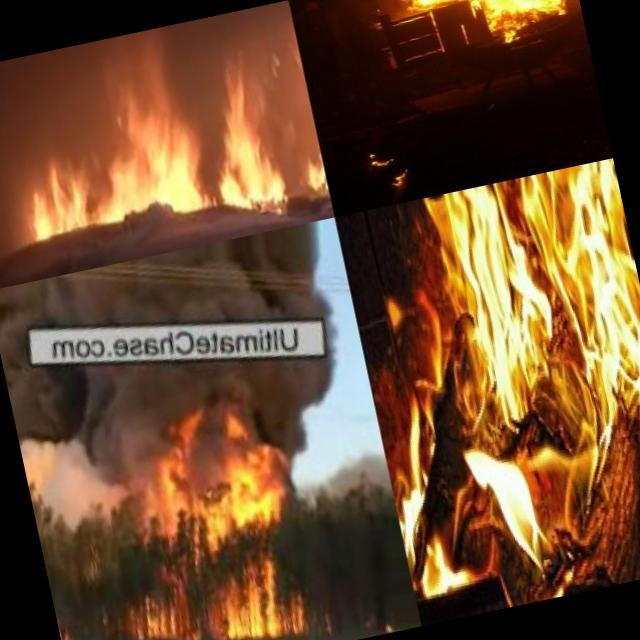fire: (334, 157, 640, 625), (0, 2, 330, 259), (359, 0, 584, 66), (206, 539, 338, 640), (168, 443, 284, 550), (131, 583, 198, 640), (55, 613, 78, 640)
smoke: (15, 395, 176, 526), (158, 356, 352, 460)
